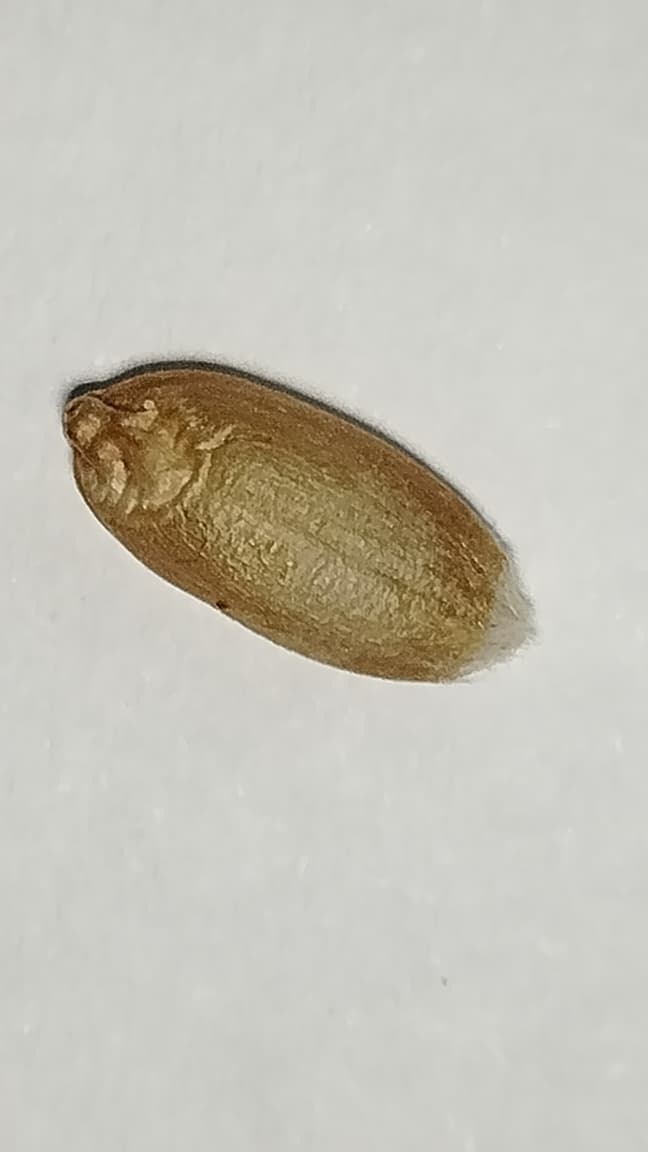healthy: (64, 363, 523, 681)
